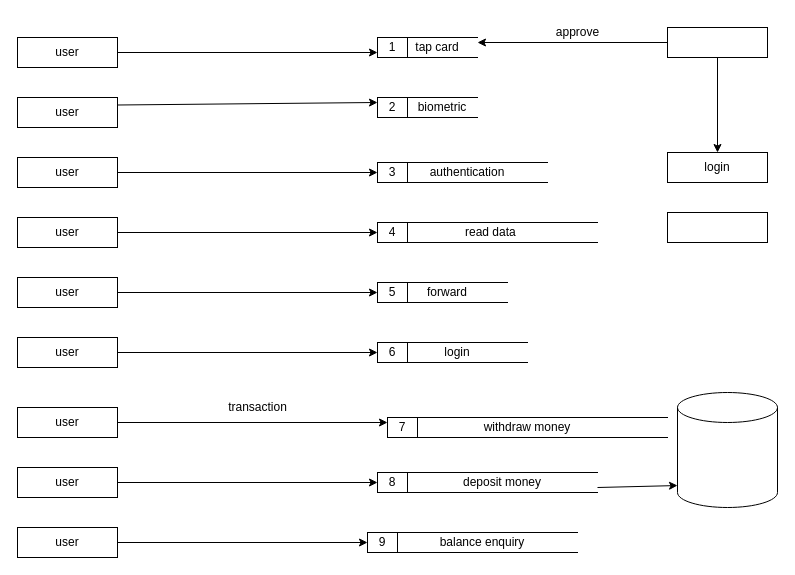
The diagram is 795 pixels wide and 575 high, and some of its shapes have lost their labels. Each missing label, with the centre of its shape:
admin: the point at 717,42
database: the point at 727,450
maintain userlist: the point at 717,227
